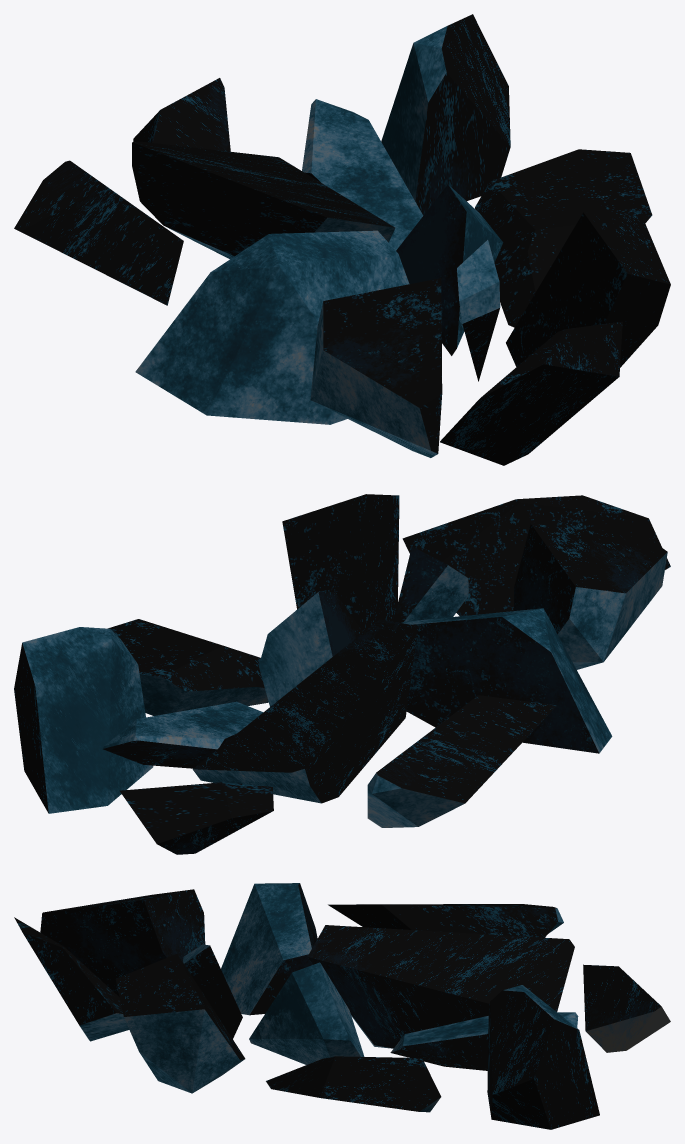
The model's file is Cullert.fbx.
The picture shows the model from 3 angles, top to bottom: view 1: azimuth 30°, elevation 25°; view 2: azimuth 150°, elevation 25°; view 3: azimuth 270°, elevation 25°; orthographic projection. The views are drawn at different scales.
Visible parts, largest first — view 1: Cullet_Blue_5, Cullet_Blue_2, Cullet_Blue_3, Cullet_Blue_4, Cullet_Blue_10, Cullet_Blue_7, Cullet_Blue_12, Cullet_Blue_1, Cullet_Blue_8, Cullet_Blue_11, Cullet_Blue_6, Cullet_Blue_9; view 2: Cullet_Blue_4, Cullet_Blue_3, Cullet_Blue_5, Cullet_Blue_2, Cullet_Blue_1, Cullet_Blue_7, Cullet_Blue_12, Cullet_Blue_10, Cullet_Blue_6, Cullet_Blue_11, Cullet_Blue_8, Cullet_Blue_9; view 3: Cullet_Blue_4, Cullet_Blue_3, Cullet_Blue_7, Cullet_Blue_2, Cullet_Blue_5, Cullet_Blue_11, Cullet_Blue_10, Cullet_Blue_1, Cullet_Blue_6, Cullet_Blue_12, Cullet_Blue_8, Cullet_Blue_9.
Part boxes in pixels (box(x1,y1,x2,y2)): Cullet_Blue_5: box(135, 230, 409, 424); Cullet_Blue_2: box(310, 278, 442, 457); Cullet_Blue_3: box(381, 14, 510, 215); Cullet_Blue_4: box(132, 141, 395, 258); Cullet_Blue_10: box(475, 149, 652, 327); Cullet_Blue_7: box(506, 212, 670, 367); Cullet_Blue_12: box(440, 321, 622, 465); Cullet_Blue_1: box(14, 160, 183, 305); Cullet_Blue_8: box(302, 99, 423, 250); Cullet_Blue_11: box(396, 184, 503, 355); Cullet_Blue_6: box(133, 78, 230, 151); Cullet_Blue_9: box(457, 240, 500, 381); Cullet_Blue_4: box(192, 619, 418, 803); Cullet_Blue_3: box(14, 627, 153, 813); Cullet_Blue_5: box(401, 608, 612, 753); Cullet_Blue_2: box(514, 523, 667, 669); Cullet_Blue_1: box(367, 695, 556, 827); Cullet_Blue_7: box(282, 494, 399, 631); Cullet_Blue_12: box(402, 495, 670, 616); Cullet_Blue_10: box(108, 619, 268, 715); Cullet_Blue_6: box(119, 782, 273, 854); Cullet_Blue_11: box(259, 592, 363, 706); Cullet_Blue_8: box(102, 701, 262, 768); Cullet_Blue_9: box(393, 546, 468, 622); Cullet_Blue_4: box(307, 925, 574, 1048); Cullet_Blue_3: box(487, 985, 599, 1129); Cullet_Blue_7: box(115, 953, 245, 1093); Cullet_Blue_2: box(40, 889, 205, 996); Cullet_Blue_5: box(221, 883, 317, 1015); Cullet_Blue_11: box(249, 962, 364, 1064); Cullet_Blue_10: box(266, 1056, 441, 1112); Cullet_Blue_1: box(328, 904, 563, 937); Cullet_Blue_6: box(583, 964, 670, 1052); Cullet_Blue_12: box(14, 917, 129, 1041); Cullet_Blue_8: box(390, 1012, 578, 1070); Cullet_Blue_9: box(183, 944, 242, 1038).
Bounding box in the file's own units: 2.53 × 0.7626 × 3.38.
2 materials, 2 textured.
